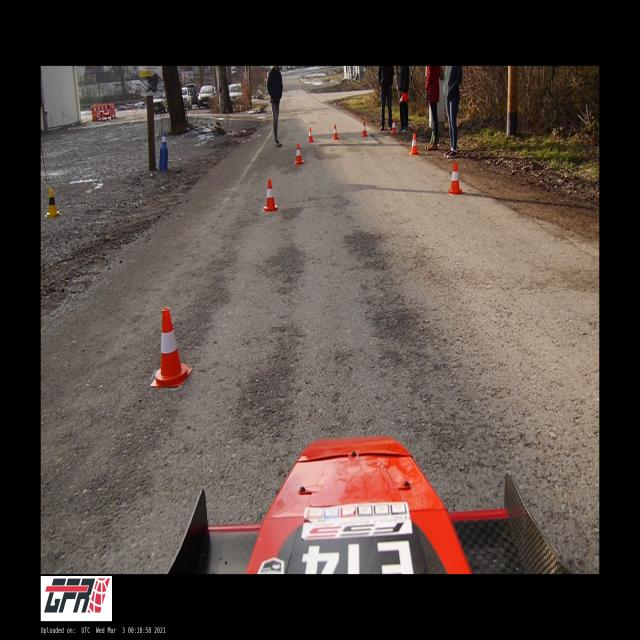blue_cone: (160, 130, 168, 150)
orange_cone: (151, 308, 192, 386), (263, 179, 278, 211), (448, 161, 462, 194), (410, 134, 419, 155), (295, 144, 303, 164), (399, 91, 408, 103), (333, 125, 339, 139), (308, 128, 314, 142), (362, 121, 367, 136), (392, 118, 396, 134)
yellow_cone: (45, 188, 61, 217)
